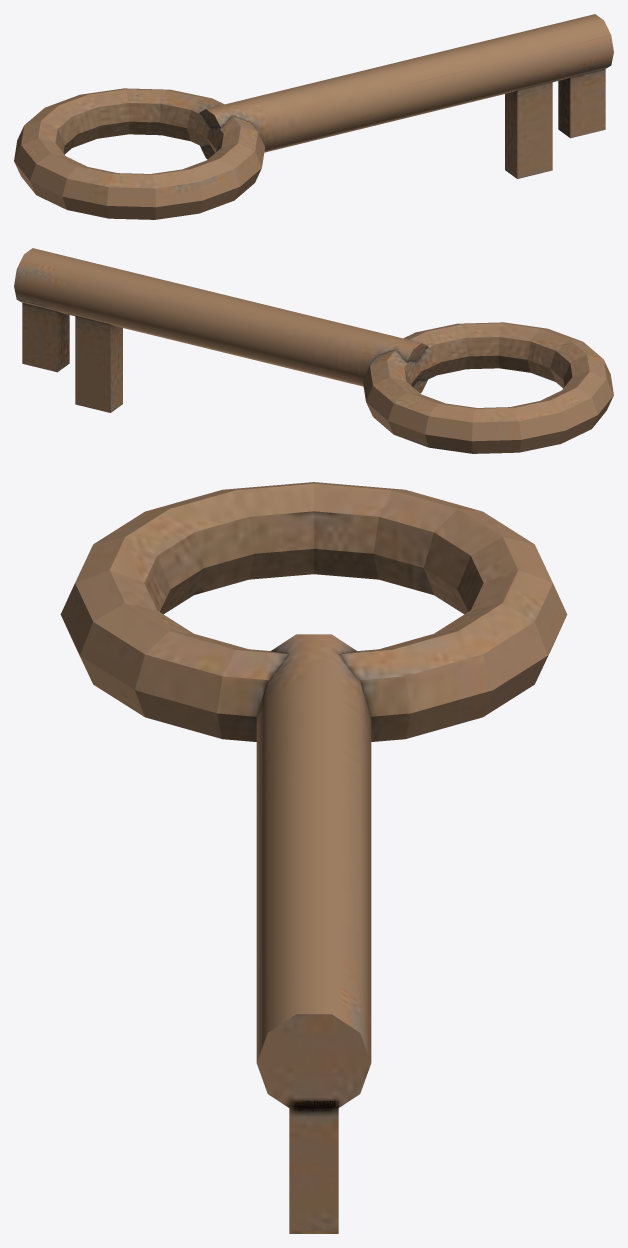
Rendered from key.glb.
3 renders of one model, top to bottom at view 1: azimuth 30°, elevation 25°; view 2: azimuth 150°, elevation 25°; view 3: azimuth 270°, elevation 25°, orthographic. The views are drawn at different scales.
Parts seen in each view (by area): view 1: bit0; view 2: bit0; view 3: bit0.
Boxes of the visible parts, x1,y1,x2,y2 form: bit0: (14,14,613,219); bit0: (14,248,613,453); bit0: (60,482,567,1233).
Size of the model in its own units: 0.322 by 0.0733 by 0.124.
1 material, 1 textured.
